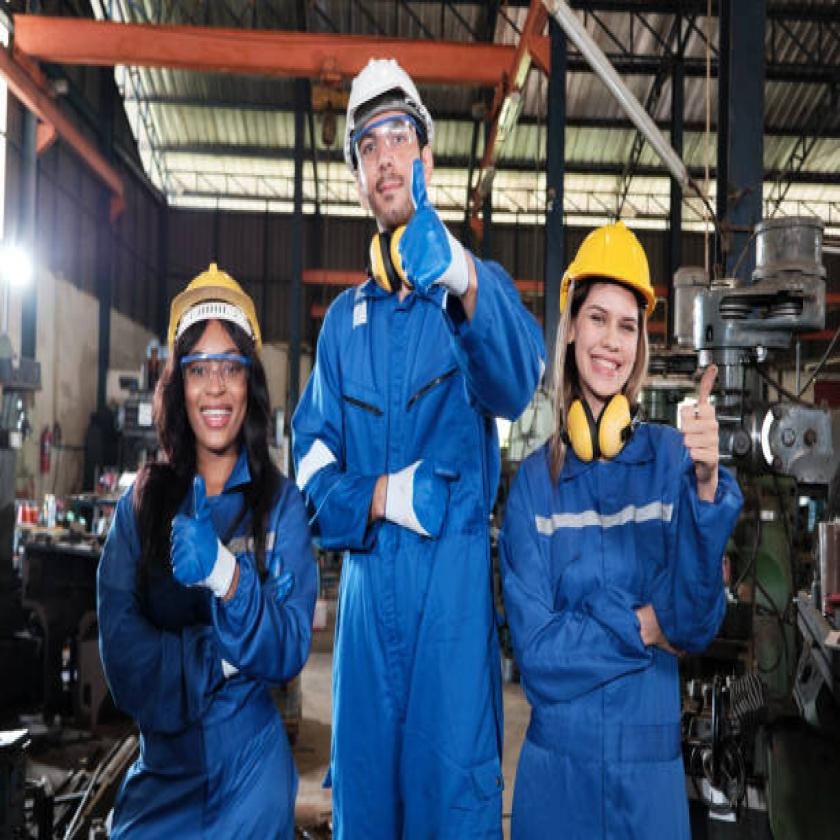Con_casco: (331, 30, 473, 303), (139, 255, 284, 512), (552, 193, 679, 439)
